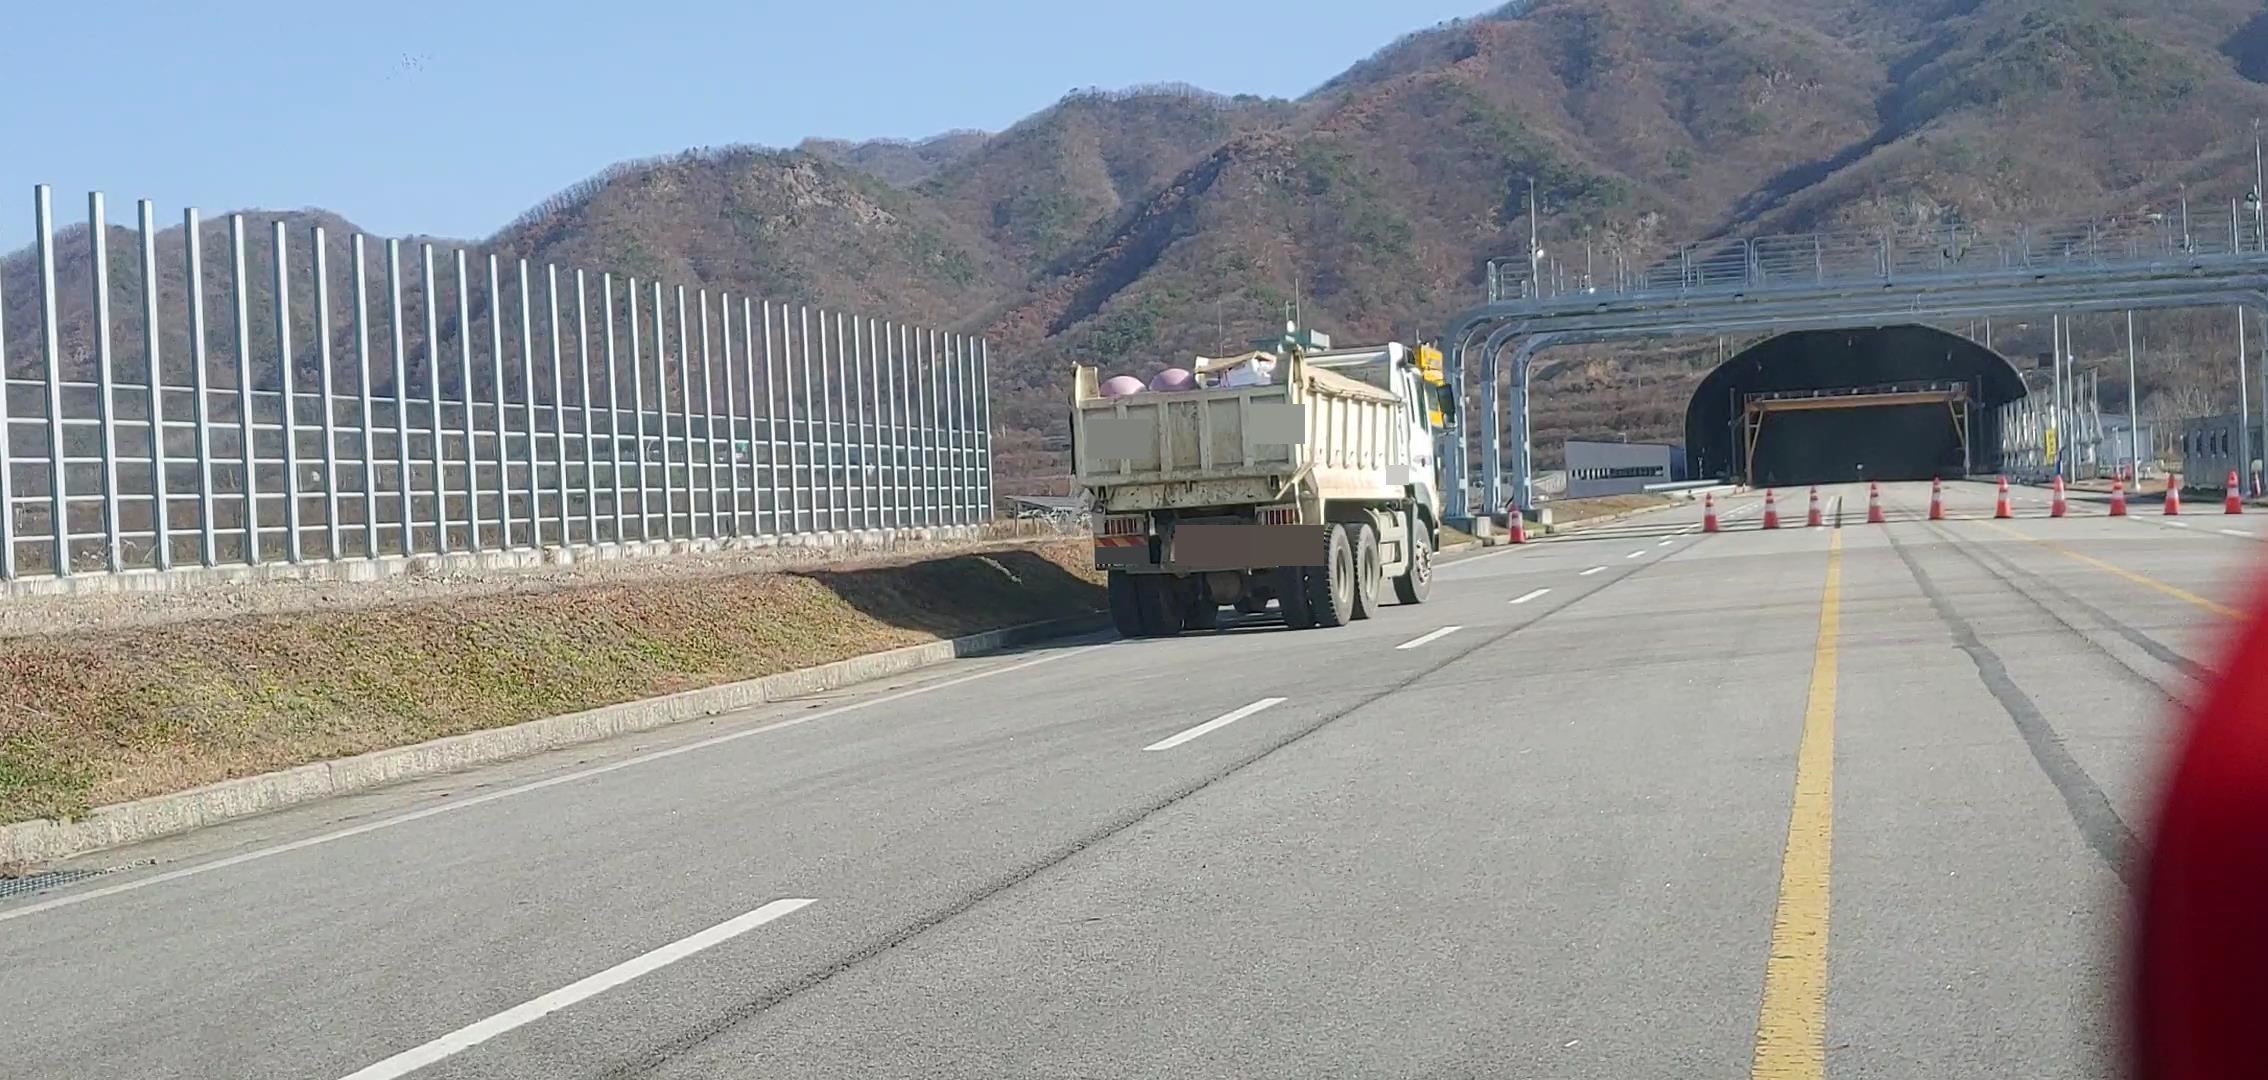불법차량: (1067, 320, 1456, 638)
